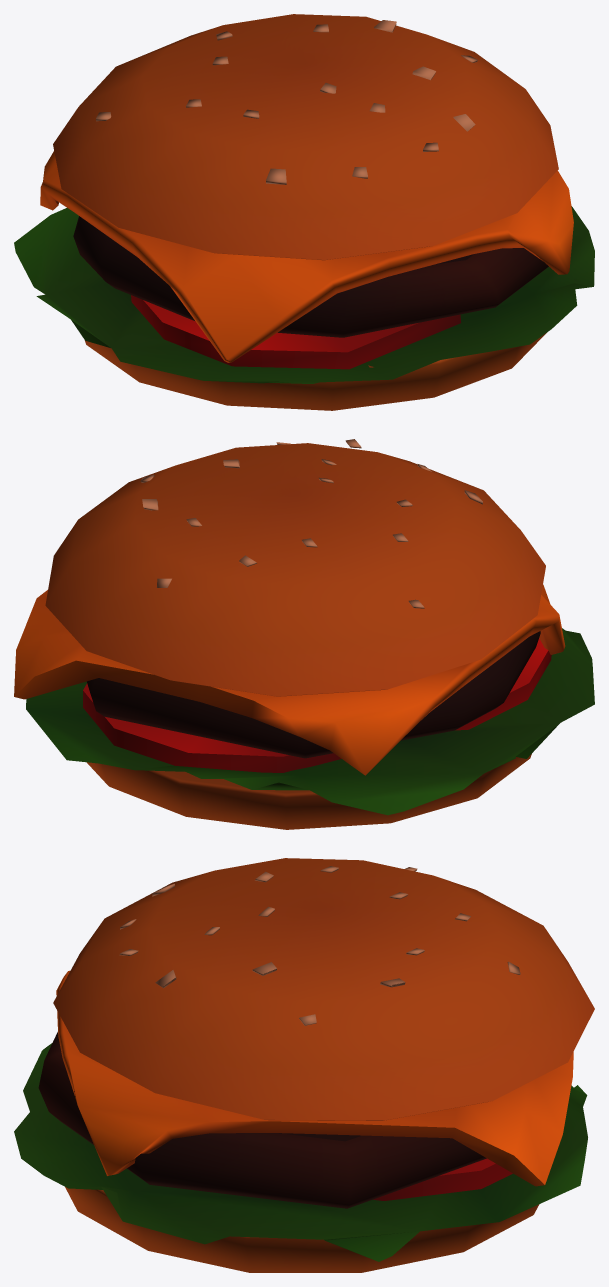
File: Burger_Single.fbx
The picture shows the model from 3 angles, top to bottom: view 1: azimuth 30°, elevation 25°; view 2: azimuth 150°, elevation 25°; view 3: azimuth 270°, elevation 25°; orthographic projection. The views are drawn at different scales.
Visible parts, largest first — view 1: Burger_Single; view 2: Burger_Single; view 3: Burger_Single.
Boxes of the visible parts, box(x1,y1,x2,y2) form: Burger_Single: box(14, 14, 594, 410); Burger_Single: box(14, 439, 594, 829); Burger_Single: box(14, 858, 594, 1272).
Size of the model in its own units: 62.92 by 29.42 by 59.72.
